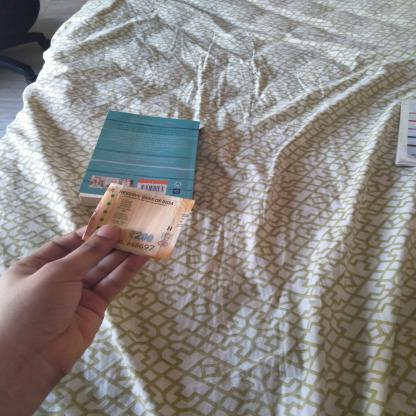New200Front: (86, 186, 182, 254)
